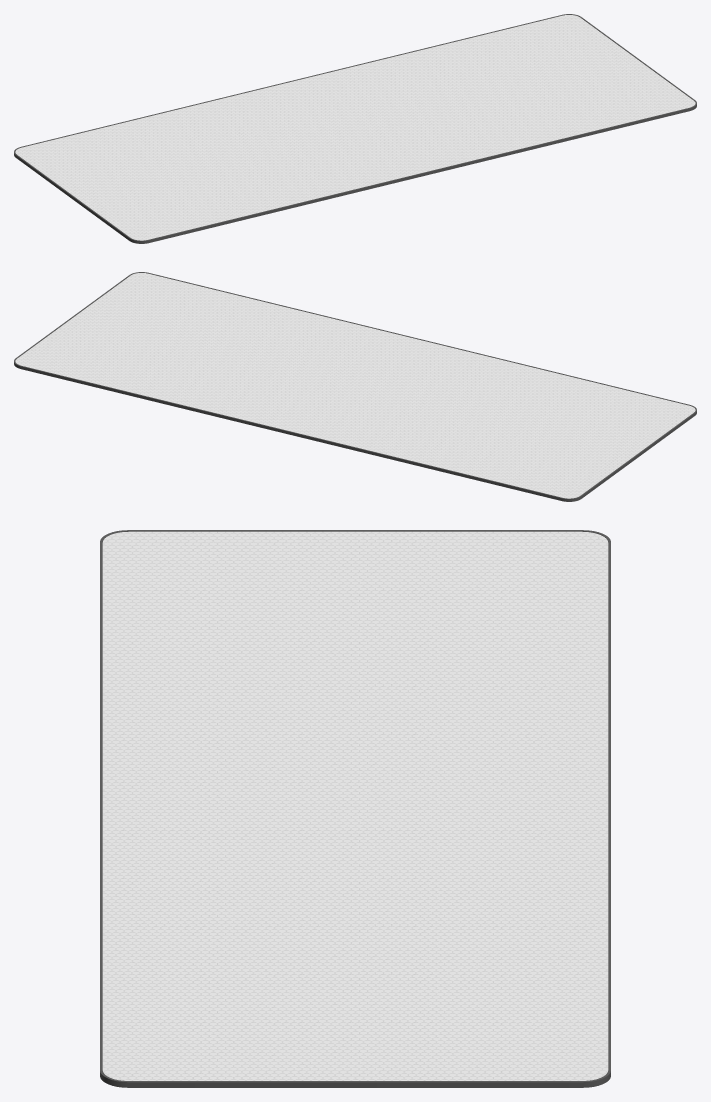
File: MOb_Rug_002_23x9.fbx
3 renders of one model, top to bottom at view 1: azimuth 30°, elevation 25°; view 2: azimuth 150°, elevation 25°; view 3: azimuth 270°, elevation 25°, orthographic. The views are drawn at different scales.
Visible parts, largest first — view 1: MOb_Rug_002_23x9; view 2: MOb_Rug_002_23x9; view 3: MOb_Rug_002_23x9.
Boxes of the visible parts, <box> form: MOb_Rug_002_23x9: <box>14,14,696,243</box>; MOb_Rug_002_23x9: <box>14,272,696,501</box>; MOb_Rug_002_23x9: <box>100,530,610,1087</box>.
Size of the model in its own units: 23 by 0.11 by 9.
